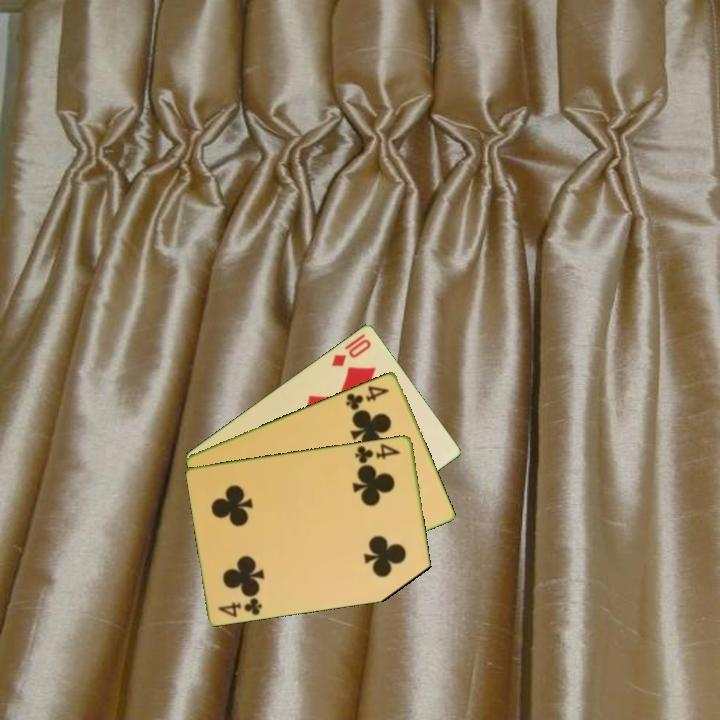10d: (328, 335, 374, 369)
4c: (342, 382, 392, 413), (215, 593, 265, 620), (352, 440, 403, 466)
